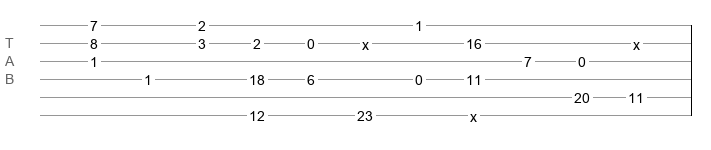0: (307, 36, 315, 46), (415, 72, 423, 82), (578, 54, 586, 64)
1: (90, 54, 98, 64), (144, 72, 152, 82), (415, 18, 423, 28)
11: (466, 72, 482, 82), (628, 90, 644, 100)
12: (249, 108, 265, 118)
16: (466, 36, 482, 46)
18: (249, 72, 265, 82)
2: (198, 18, 206, 28), (253, 36, 261, 46)
20: (574, 90, 590, 100)
23: (357, 108, 373, 118)
3: (198, 36, 206, 46)
6: (307, 72, 315, 82)
7: (90, 18, 98, 28), (524, 54, 532, 64)
8: (90, 36, 98, 46)
x: (362, 37, 369, 45), (470, 109, 477, 117), (633, 37, 640, 45)
